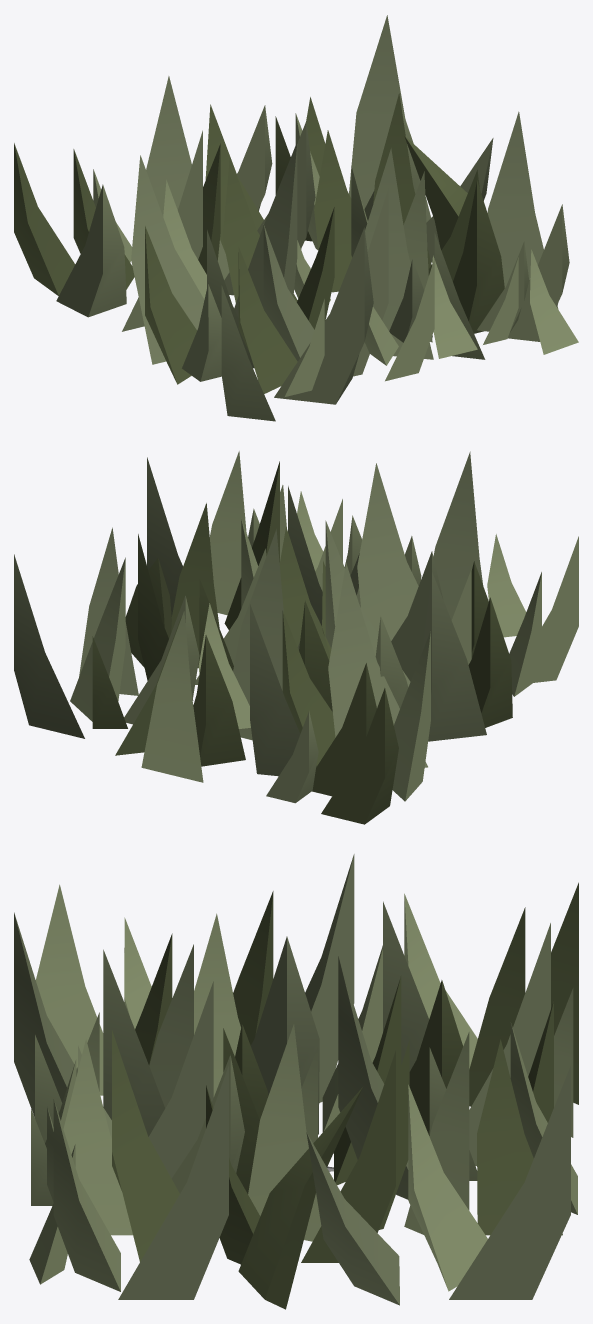
File: low poly grass clump.fbx
3 views of the same model, one above another, from view 1: azimuth 30°, elevation 25°; view 2: azimuth 150°, elevation 25°; view 3: azimuth 270°, elevation 25° (orthographic). The views are drawn at different scales.
Parts seen in each view (by area): view 1: grass; view 2: grass; view 3: grass.
Part boxes in pixels (box(x1,y1,x2,y2)): grass: box(14, 15, 578, 421); grass: box(14, 451, 578, 824); grass: box(14, 854, 578, 1309).
Bounding box in the file's own units: 75.94 × 39.86 × 74.32.
